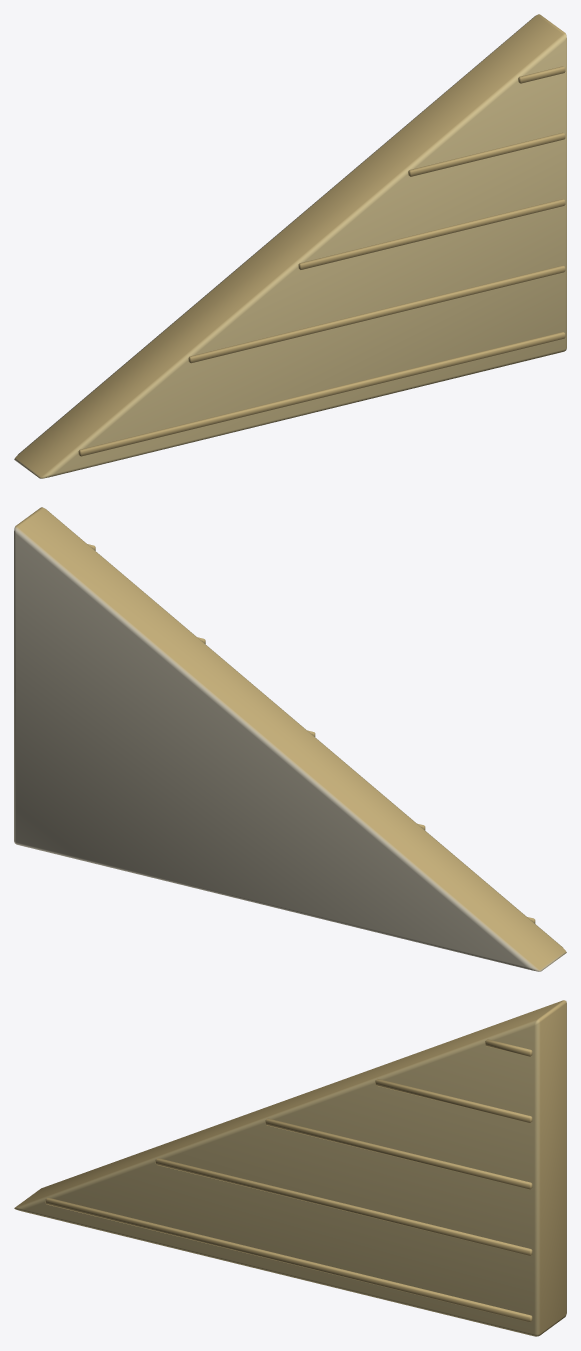
The model's file is gable_cream_l.glb.
3 renders of one model, top to bottom at view 1: azimuth 30°, elevation 25°; view 2: azimuth 150°, elevation 25°; view 3: azimuth 330°, elevation 25°, orthographic.
Parts seen in each view (by area): view 1: gable_cream_l; view 2: gable_cream_l; view 3: gable_cream_l.
Boxes of the visible parts, x1,y1,x2,y2 form: gable_cream_l: (14,14,566,478); gable_cream_l: (14,507,566,971); gable_cream_l: (14,1000,566,1336).
Size of the model in its own units: 1.99 by 1.15 by 0.216.
